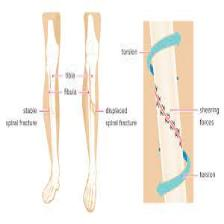spiral-fracture: (38, 8, 100, 219)
